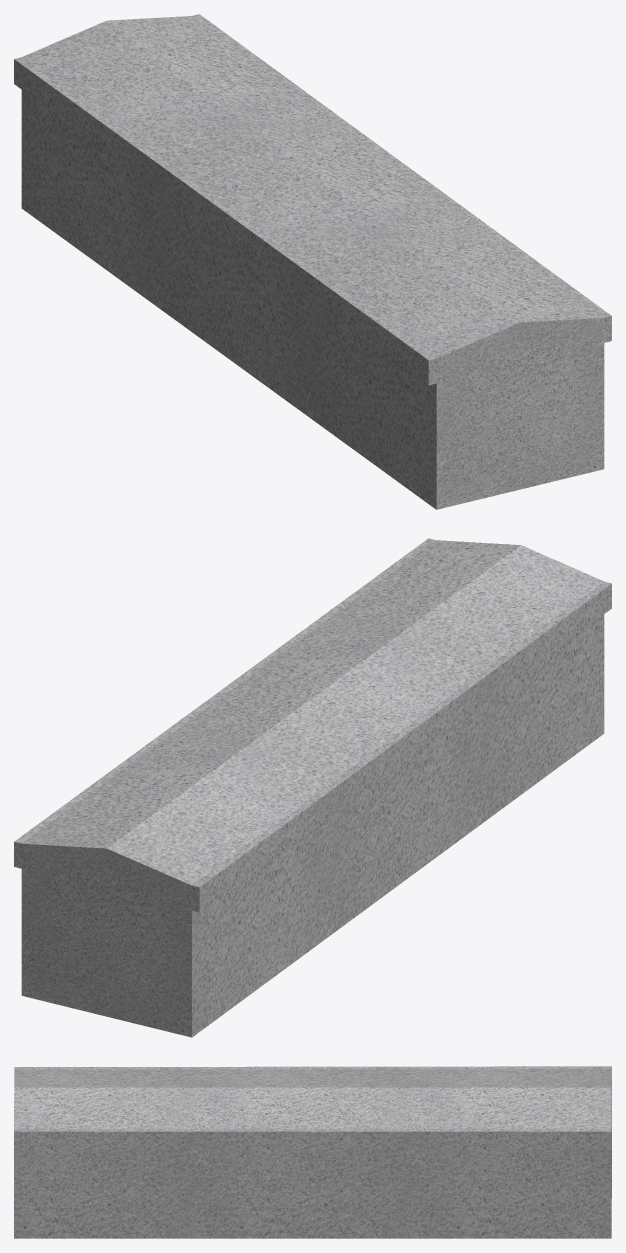
File: SM_M_brickchimney_1_1.fbx
3 renders of one model, top to bottom at view 1: azimuth 30°, elevation 25°; view 2: azimuth 150°, elevation 25°; view 3: azimuth 270°, elevation 25°, orthographic. The views are drawn at different scales.
Parts seen in each view (by area): view 1: SM_M_brickchimney_1_1; view 2: SM_M_brickchimney_1_1; view 3: SM_M_brickchimney_1_1.
Part boxes in pixels (x1,y1,x2,y2): SM_M_brickchimney_1_1: [14, 14, 611, 509]; SM_M_brickchimney_1_1: [14, 538, 611, 1037]; SM_M_brickchimney_1_1: [14, 1066, 611, 1238].
Bounding box in the file's own units: 114 × 440 × 98.34.
1 material, 1 textured.
